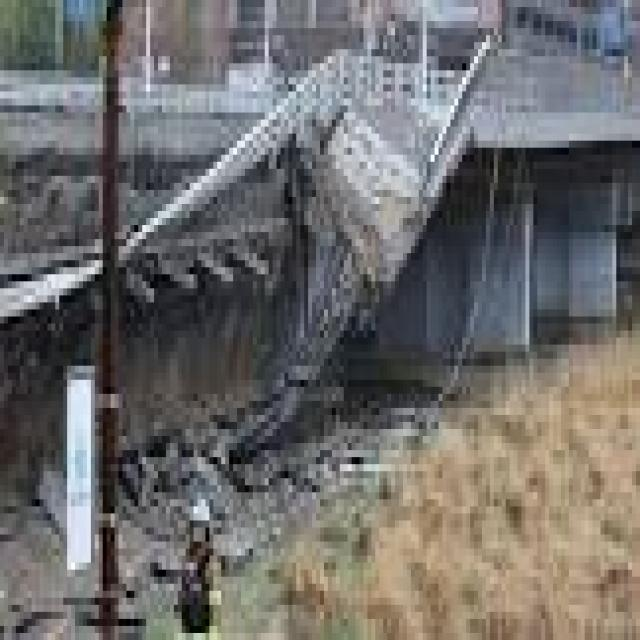bridge collapse: (0, 0, 413, 640)
